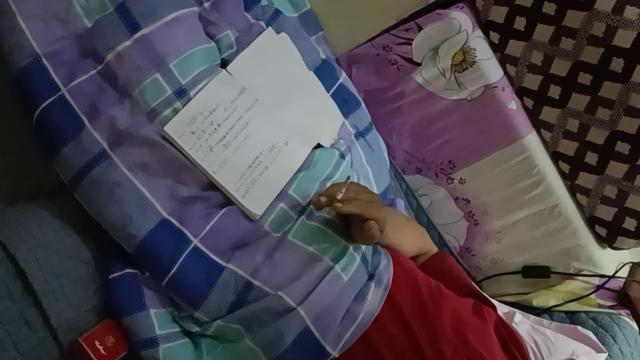Smoking: (327, 174, 351, 218)
